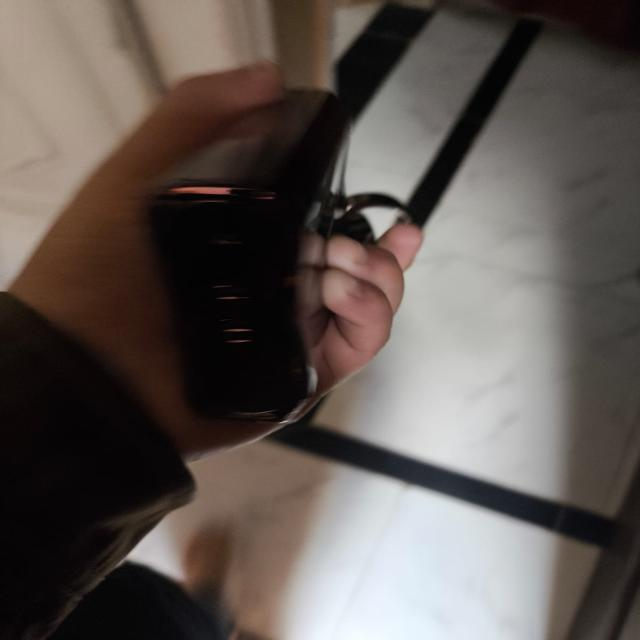Afnan: (139, 1, 351, 425)
